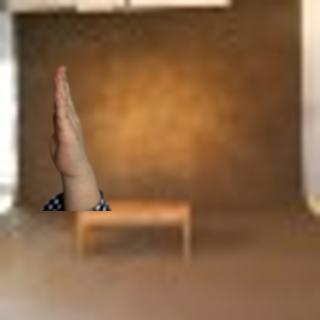RIGHT: (50, 60, 97, 181)
